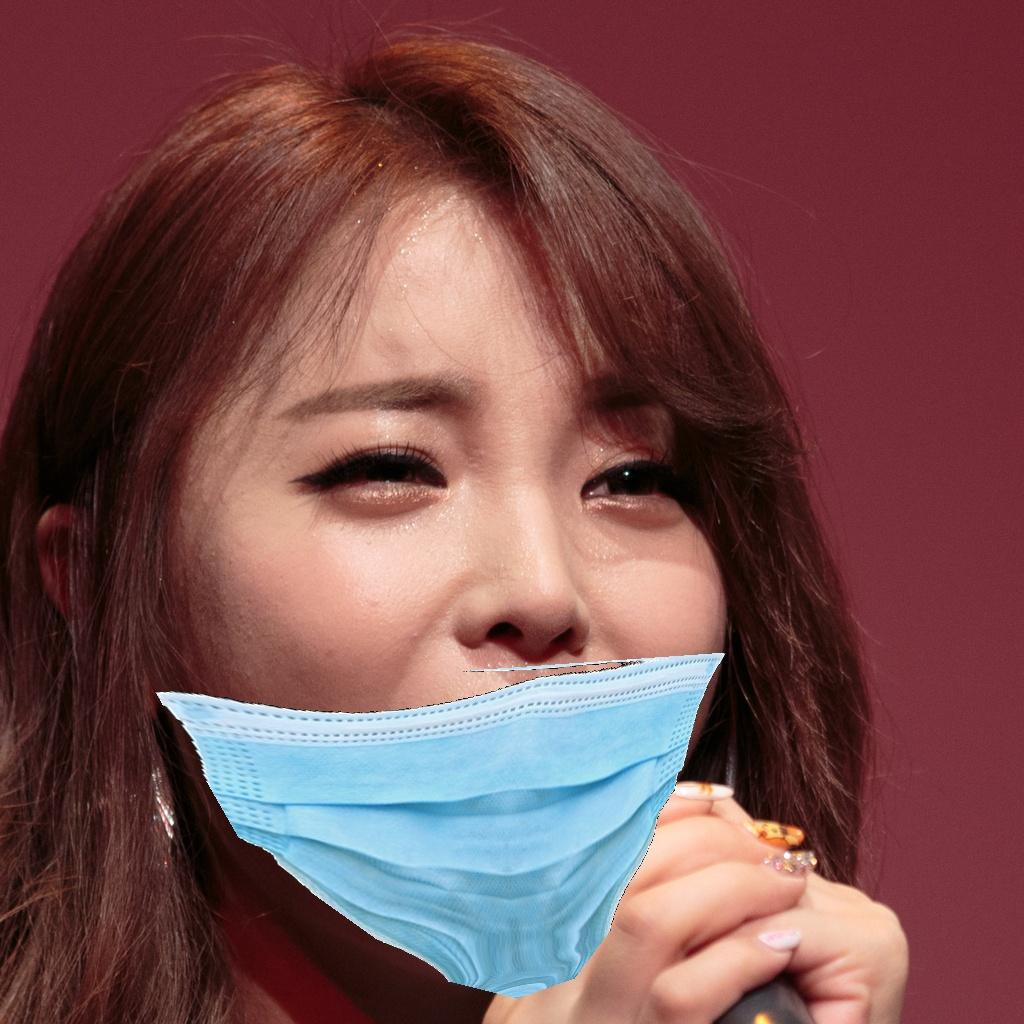Máscara Incorreta: (118, 318, 763, 967)
